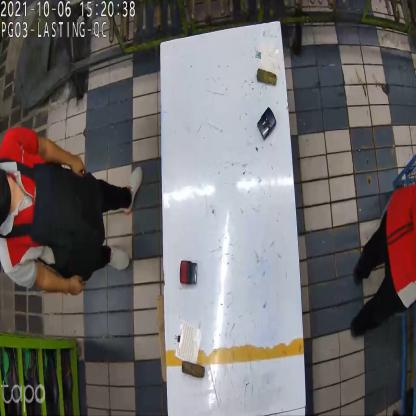stamp: (257, 105, 276, 141), (179, 257, 197, 287)
